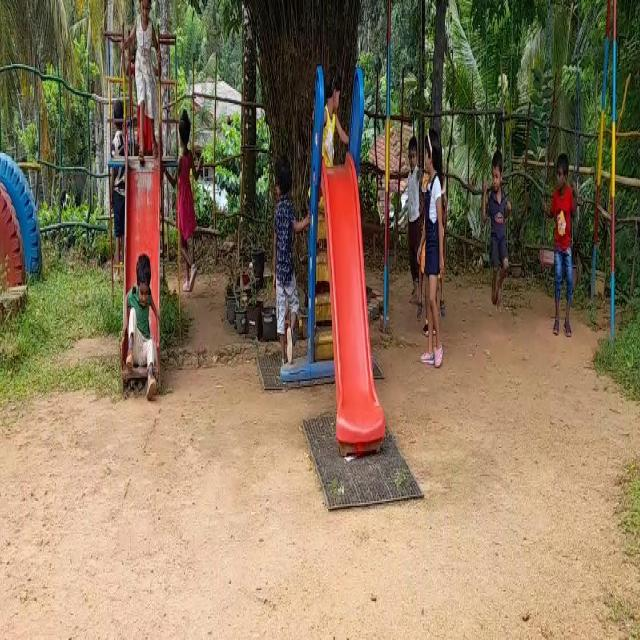child: (412, 136, 456, 370), (540, 120, 584, 340), (267, 155, 304, 384), (121, 0, 165, 173), (123, 238, 162, 411), (483, 125, 517, 318), (178, 106, 206, 294)
